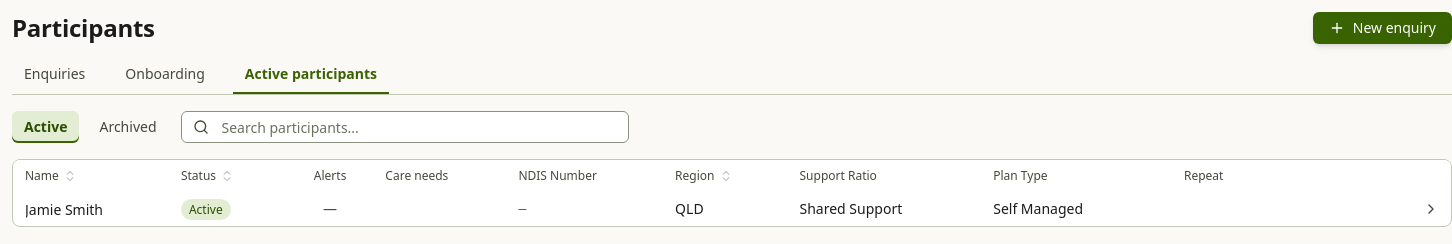
Test case: ParticipantsHubPage (wire) — the register has its controls back › lists archived participants under Archived, and offers Restore, so Archive is no longer a one-way door
Expected: the link "Jamie Smith" is shown, [25, 200, 103, 220]
Click the radio button labelled "Archived" at (128, 127), box [88, 111, 169, 143]
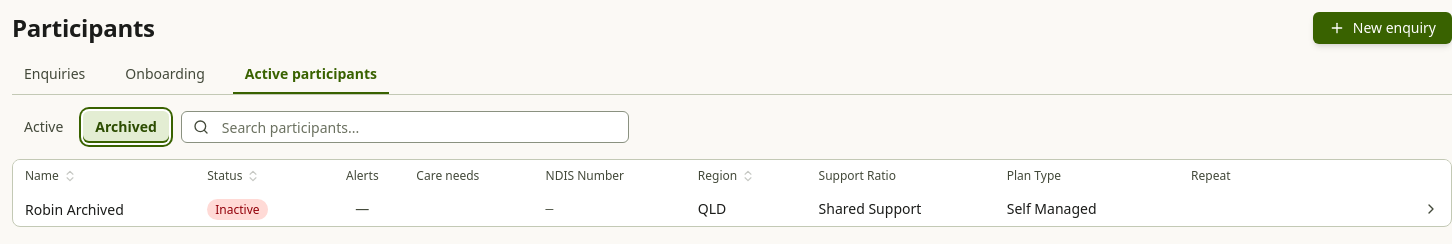
Now the link "Robin Archived" is shown, box [25, 200, 124, 220]
